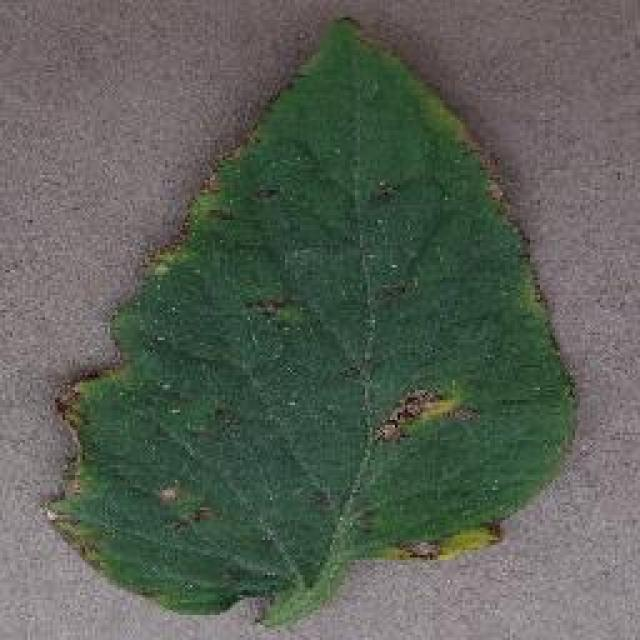Tomato___Bacterial_spot: (39, 16, 580, 630)
